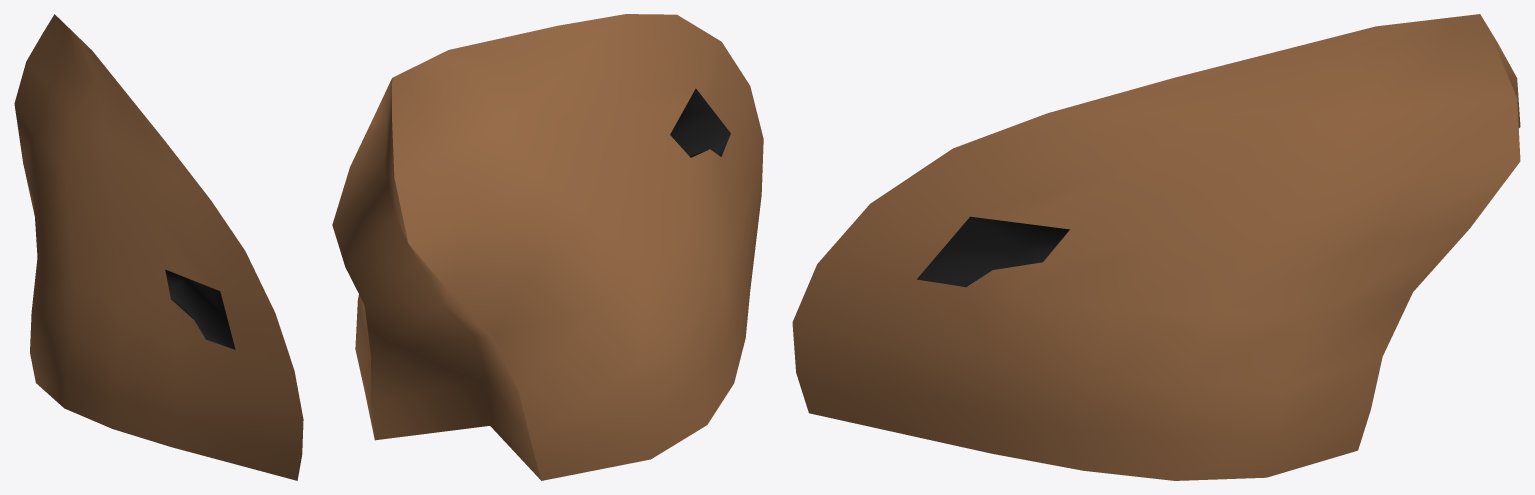
File: Shard.fbx
3 views of the same model, side by side, from view 1: azimuth 30°, elevation 25°; view 2: azimuth 150°, elevation 25°; view 3: azimuth 270°, elevation 25° (orthographic). The views are drawn at different scales.
Parts seen in each view (by area): view 1: Shard - takumoaki (Mr Fear); view 2: Shard - takumoaki (Mr Fear); view 3: Shard - takumoaki (Mr Fear).
Boxes of the visible parts, x1,y1,x2,y2 form: Shard - takumoaki (Mr Fear): [14, 14, 303, 480]; Shard - takumoaki (Mr Fear): [332, 14, 763, 480]; Shard - takumoaki (Mr Fear): [792, 14, 1520, 480].
Bounding box in the file's own units: 19.02 × 26.07 × 43.08.
